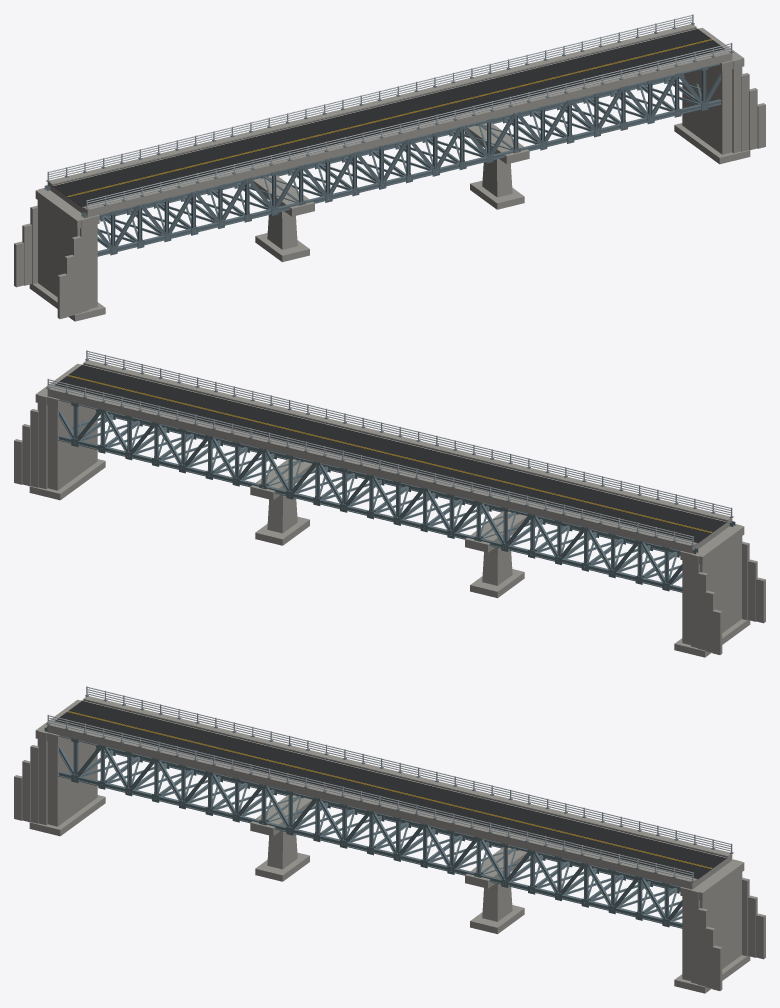
Rendered from deckTruss.obj.
The picture shows the model from 3 angles, top to bottom: view 1: azimuth 30°, elevation 25°; view 2: azimuth 150°, elevation 25°; view 3: azimuth 330°, elevation 25°; orthographic projection.
Parts seen in each view (by area): view 1: truss@paintedSteel, asphalt.bridge@asphalt, abutment@concrete, railing@galvanizedSteel, sidewalk@concrete, deck@concrete, connection@paintedSteel, footing@concrete, cap@concrete, pier@concrete, marking@yellowPaint, marking@whitePaint; view 2: truss@paintedSteel, asphalt.bridge@asphalt, abutment@concrete, railing@galvanizedSteel, sidewalk@concrete, deck@concrete, connection@paintedSteel, footing@concrete, cap@concrete, pier@concrete, marking@yellowPaint, marking@whitePaint; view 3: truss@paintedSteel, asphalt.bridge@asphalt, abutment@concrete, railing@galvanizedSteel, sidewalk@concrete, deck@concrete, connection@paintedSteel, footing@concrete, cap@concrete, pier@concrete, marking@yellowPaint, marking@whitePaint.
Part boxes in pixels (x1,y1,x2,y2): truss@paintedSteel: (97,63,721,256); asphalt.bridge@asphalt: (52,28,724,207); abutment@concrete: (14,28,765,318); railing@galvanizedSteel: (47,14,732,209); sidewalk@concrete: (48,24,732,211); deck@concrete: (47,54,732,217); connection@paintedSteel: (44,23,733,255); footing@concrete: (29,123,750,321); cap@concrete: (35,27,744,228); pier@concrete: (267,148,512,249); marking@yellowPaint: (67,39,712,196); marking@whitePaint: (53,28,697,207); truss@paintedSteel: (58,399,682,592); asphalt.bridge@asphalt: (55,364,727,543); abutment@concrete: (14,364,765,654); railing@galvanizedSteel: (47,350,732,545); sidewalk@concrete: (47,360,731,547); deck@concrete: (47,390,732,553); connection@paintedSteel: (46,359,735,591); footing@concrete: (29,459,750,657); cap@concrete: (35,363,744,564); pier@concrete: (267,484,512,585); marking@yellowPaint: (67,375,712,532); marking@whitePaint: (82,364,726,543); truss@paintedSteel: (58,735,694,928); asphalt.bridge@asphalt: (55,700,727,879); abutment@concrete: (14,700,765,990); railing@galvanizedSteel: (47,686,732,881); sidewalk@concrete: (47,696,731,883); deck@concrete: (47,726,732,889); connection@paintedSteel: (44,695,733,927); footing@concrete: (29,795,750,993); cap@concrete: (35,699,744,900); pier@concrete: (267,820,512,921); marking@yellowPaint: (67,711,712,868); marking@whitePaint: (82,700,726,879).
Size of the model in its own units: 92.02 by 14.36 by 10.34.
